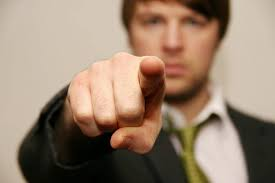hand: (50, 52, 178, 155)
